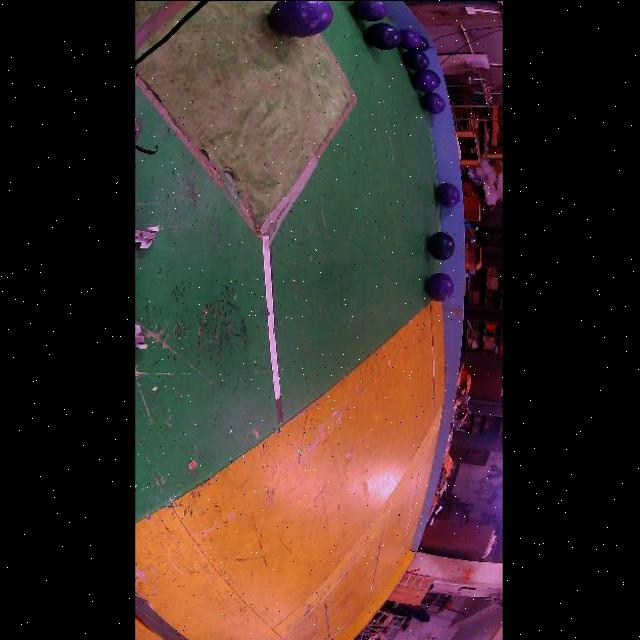B: (365, 22, 401, 49), (427, 231, 454, 259), (403, 49, 429, 70), (417, 36, 430, 51)
P: (269, 0, 333, 36), (426, 272, 454, 300), (351, 0, 388, 20), (435, 181, 459, 207), (412, 69, 438, 92), (421, 91, 445, 114), (398, 28, 421, 49)
